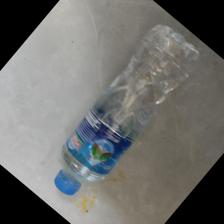Lavie: (51, 23, 199, 199)
